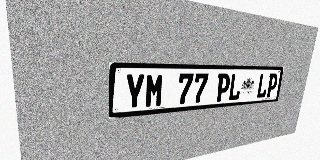7: (176, 74, 194, 105), (191, 73, 209, 104)
L: (228, 73, 243, 101), (256, 73, 269, 98)
M: (144, 74, 165, 108)
P: (215, 73, 231, 102), (265, 73, 279, 97)
Y: (124, 74, 145, 110)
